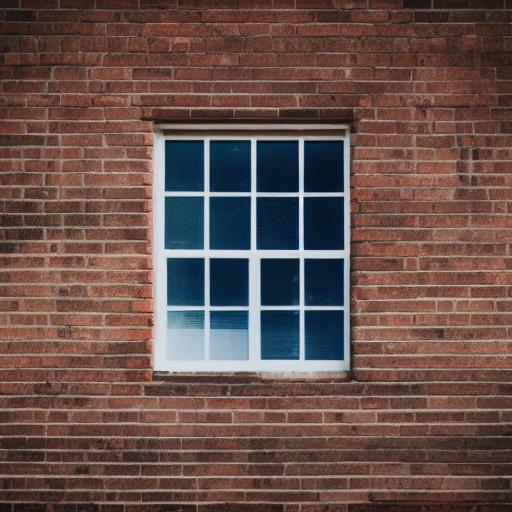Window: (147, 111, 358, 388)
